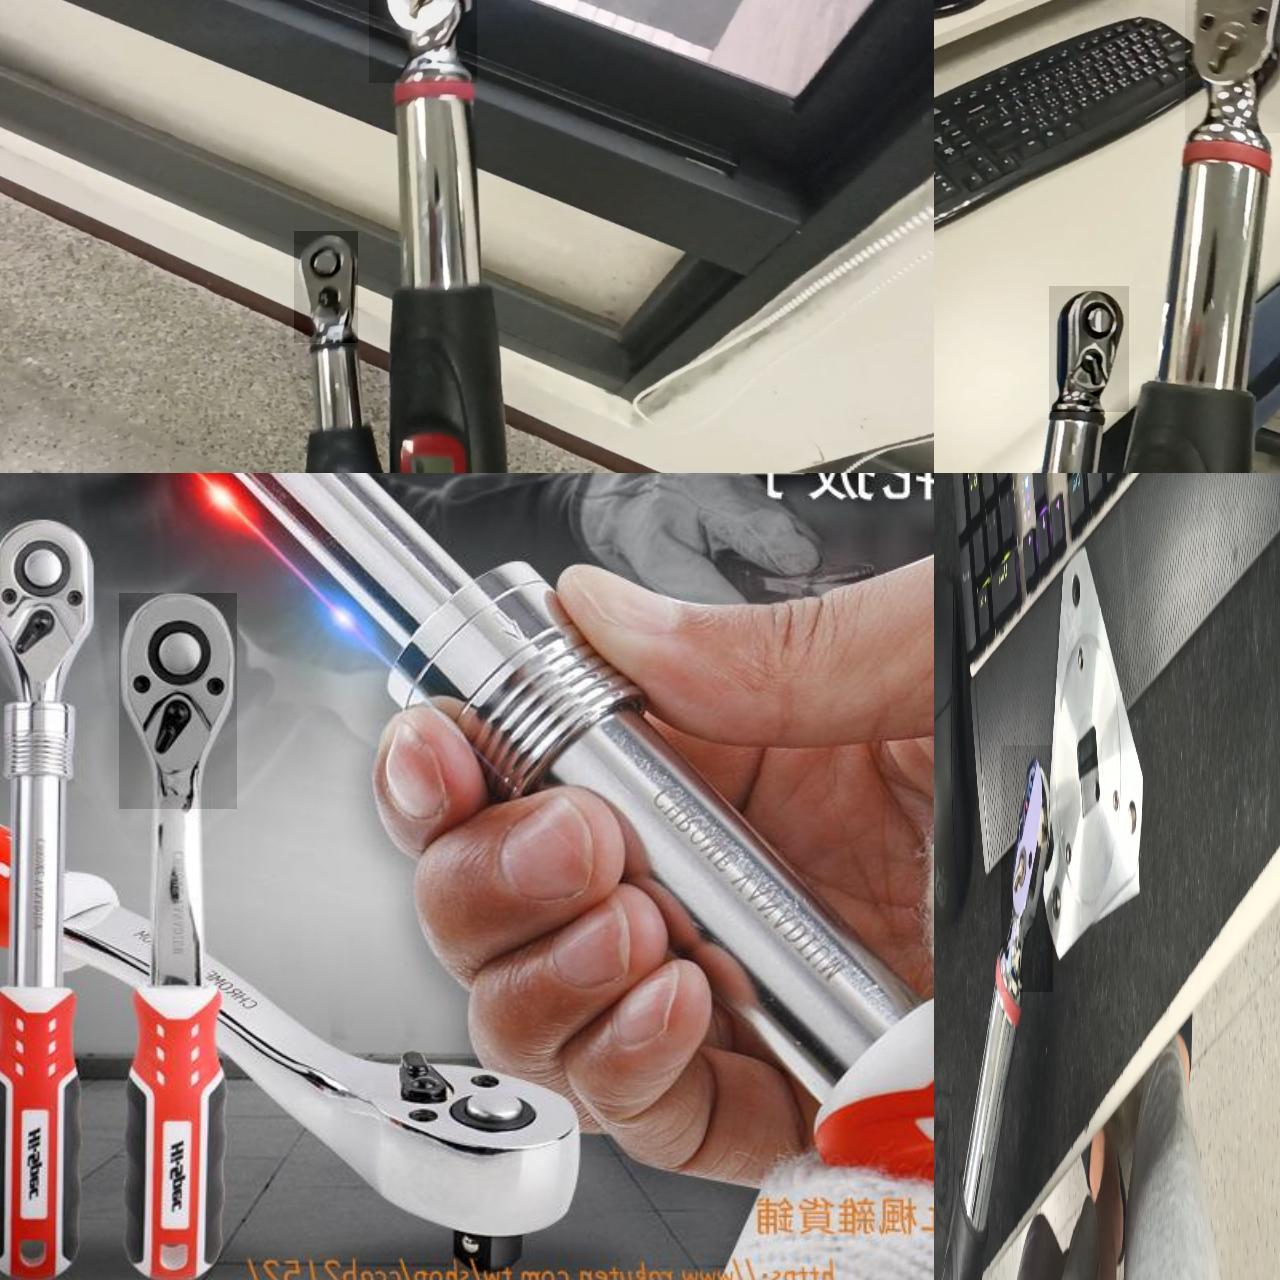Tool: (120, 593, 237, 809), (0, 519, 97, 702), (1001, 745, 1053, 992), (1185, 0, 1280, 132), (1049, 286, 1129, 411), (369, 0, 477, 83), (294, 231, 358, 343)
